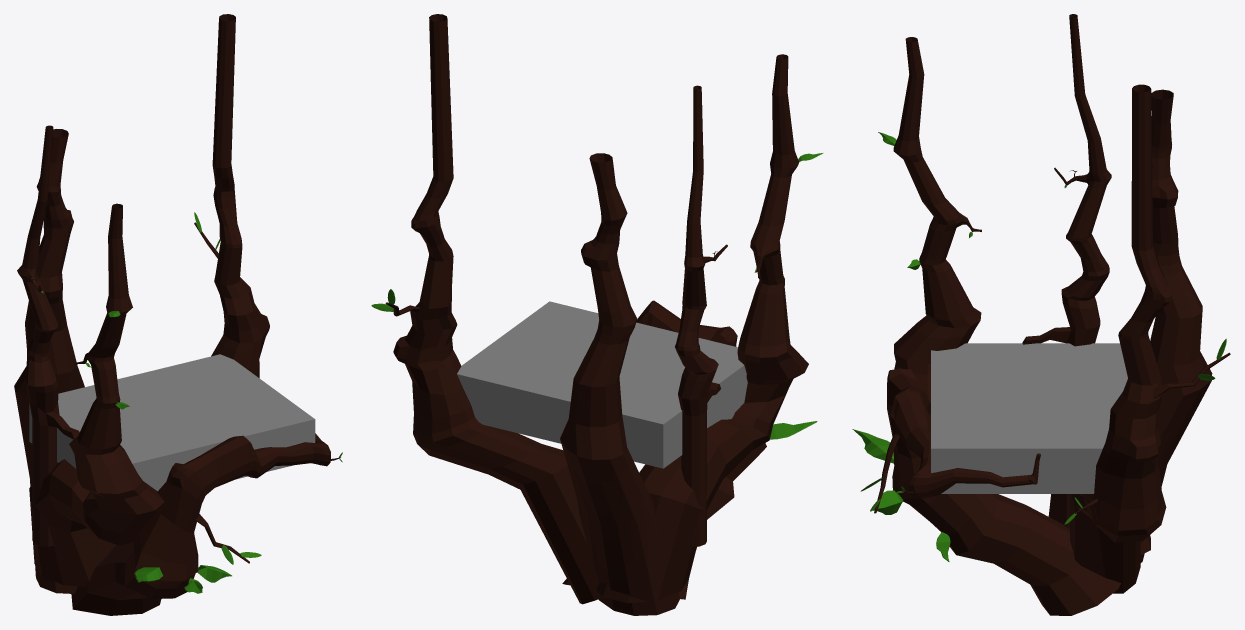
The model's file is intro-platform.FBX.
The picture shows the model from 3 angles, left to right: view 1: azimuth 30°, elevation 25°; view 2: azimuth 150°, elevation 25°; view 3: azimuth 270°, elevation 25°; orthographic projection. The views are drawn at different scales.
Parts seen in each view (by area): view 1: MainBase_Trees_E_Tree5, MainBase_Base; view 2: MainBase_Trees_E_Tree5, MainBase_Base; view 3: MainBase_Trees_E_Tree5, MainBase_Base.
Part boxes in pixels (left/top/right/bottom): MainBase_Trees_E_Tree5: left=14, top=14, right=342, bottom=615; MainBase_Base: left=29, top=354, right=315, bottom=491; MainBase_Trees_E_Tree5: left=371, top=14, right=823, bottom=615; MainBase_Base: left=457, top=301, right=747, bottom=468; MainBase_Trees_E_Tree5: left=852, top=14, right=1230, bottom=615; MainBase_Base: left=931, top=343, right=1127, bottom=493.
Size of the model in its own units: 14.68 by 26.42 by 15.45.
